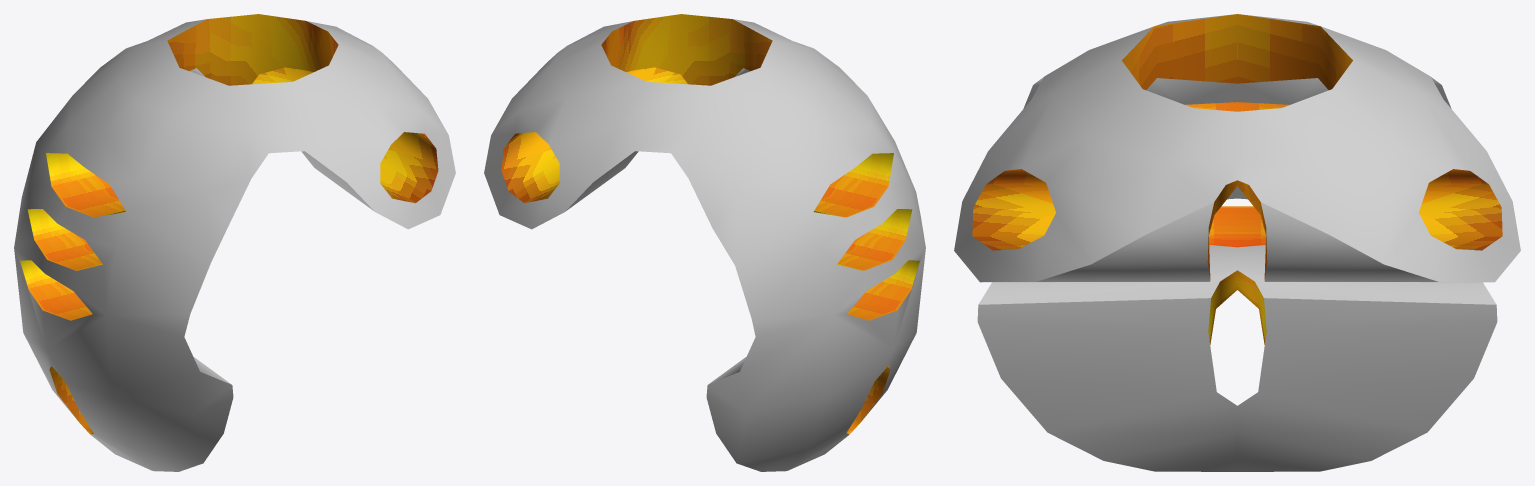
Rendered from frn_quest_honor_l0.fbx.
The picture shows the model from 3 angles, left to right: view 1: azimuth 30°, elevation 25°; view 2: azimuth 150°, elevation 25°; view 3: azimuth 270°, elevation 25°; orthographic projection. The views are drawn at different scales.
Visible parts, largest first — view 1: mesh_node; view 2: mesh_node; view 3: mesh_node.
Part boxes in pixels (x1,y1,x2,y2): mesh_node: [14, 14, 455, 471]; mesh_node: [484, 14, 925, 471]; mesh_node: [954, 14, 1520, 471].
Bounding box in the file's own units: 0.6731 × 0.6776 × 0.6955.
